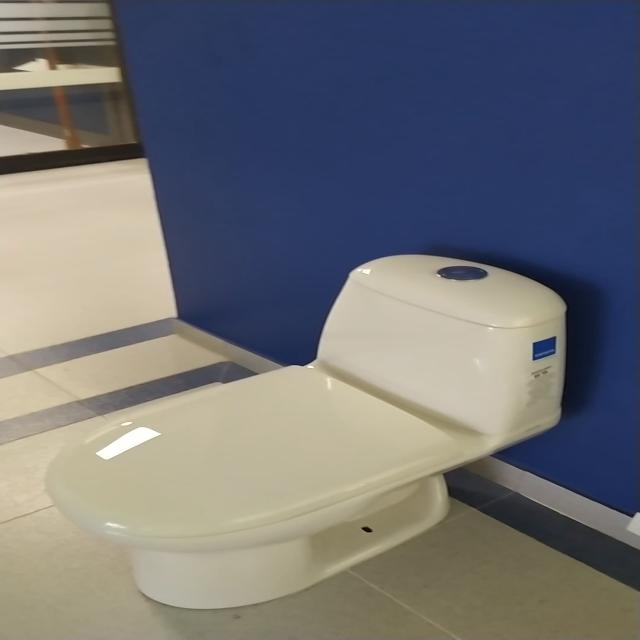toilet: (43, 253, 568, 609)
